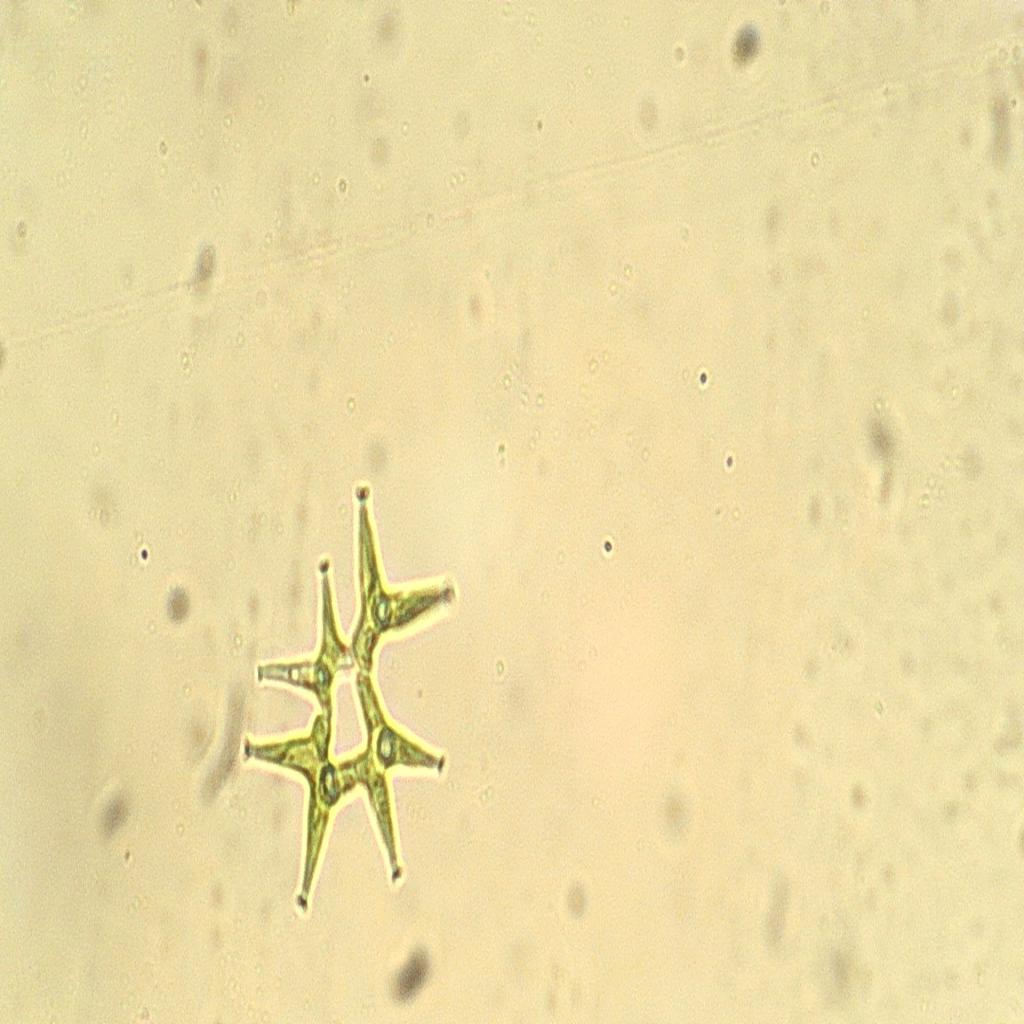Pediastrum_75FI: (225, 466, 479, 950)
